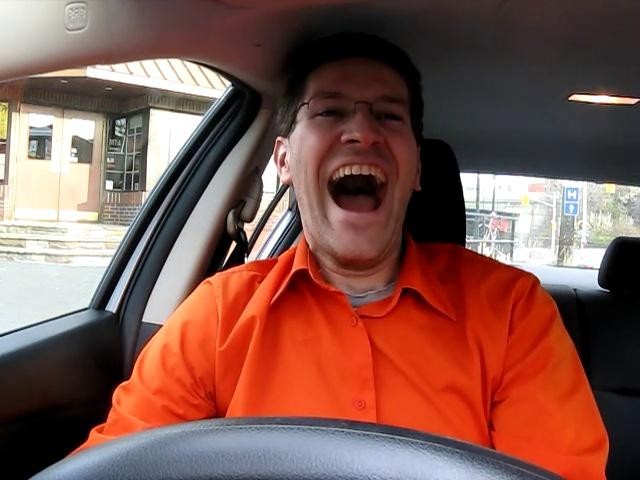close_eyeL: (296, 95, 362, 133)
close_eyeR: (365, 105, 418, 136)
yawn: (308, 158, 402, 224)
